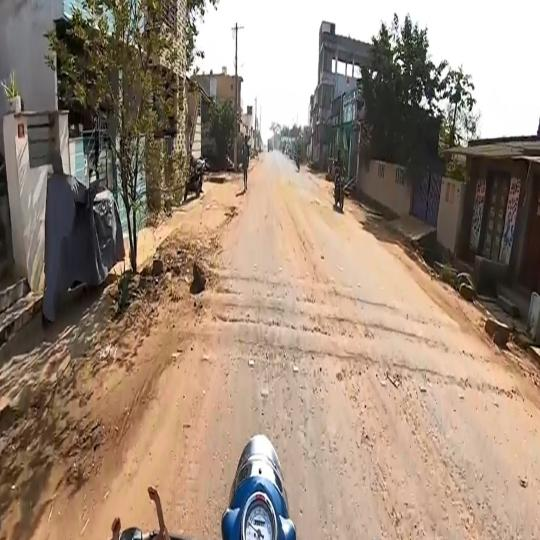Speed Bump: (178, 315, 516, 405), (201, 288, 479, 360), (210, 265, 461, 331)
